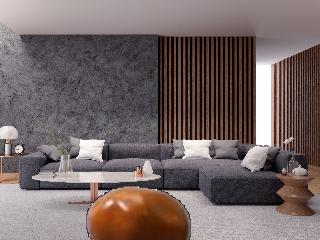potato: (86, 188, 192, 239)
